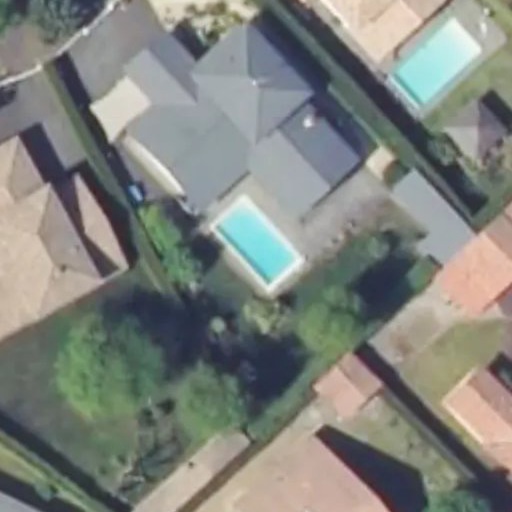pool: (210, 224, 301, 259)
